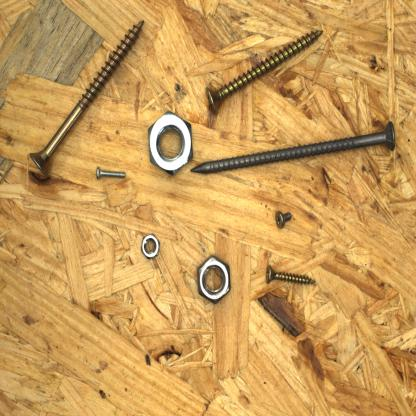screw: (27, 18, 145, 182), (188, 117, 399, 176), (202, 27, 326, 117), (262, 262, 317, 287), (94, 164, 128, 183), (273, 209, 294, 230)
